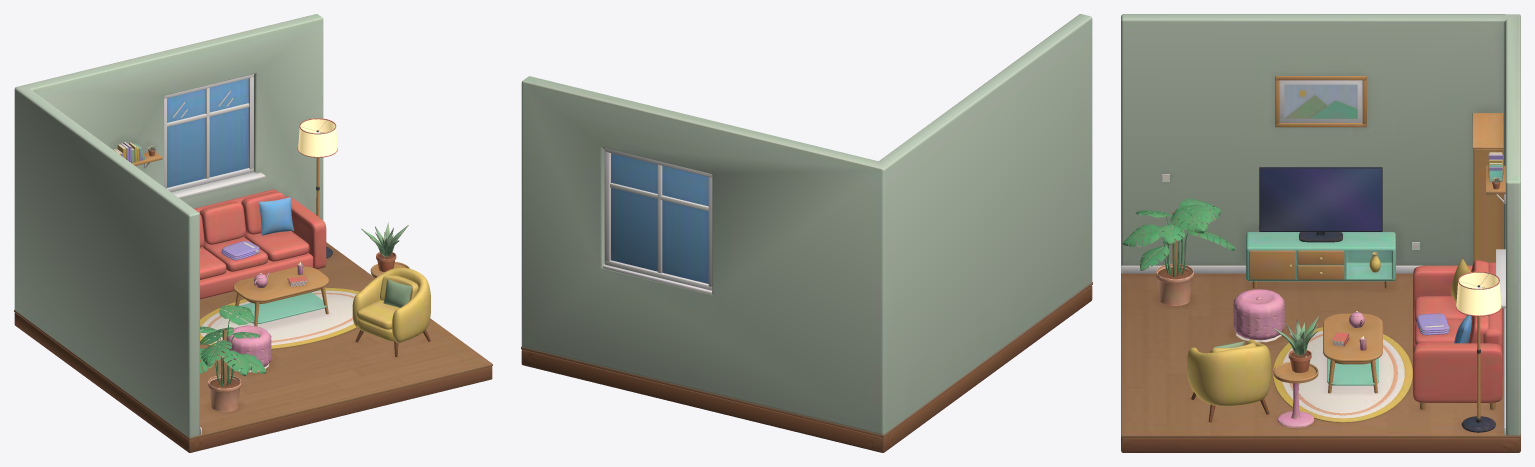
The model's file is living-room.glb.
3 renders of one model, left to right at view 1: azimuth 30°, elevation 25°; view 2: azimuth 150°, elevation 25°; view 3: azimuth 270°, elevation 25°, orthographic. The views are drawn at different scales.
Visible parts, largest first — view 1: living-room_body, living-room_floor_lamp_glow; view 2: living-room_body; view 3: living-room_body, living-room_tv_glow, living-room_floor_lamp_glow.
Part boxes in pixels (x1,y1,x2,y2): living-room_body: (14,14,492,452); living-room_floor_lamp_glow: (298,119,337,156); living-room_body: (521,14,1092,452); living-room_body: (1121,14,1520,452); living-room_tv_glow: (1260,168,1381,230); living-room_floor_lamp_glow: (1456,272,1501,315).
Size of the model in its own units: 4 by 3 by 4.
5 materials, 2 textured.
